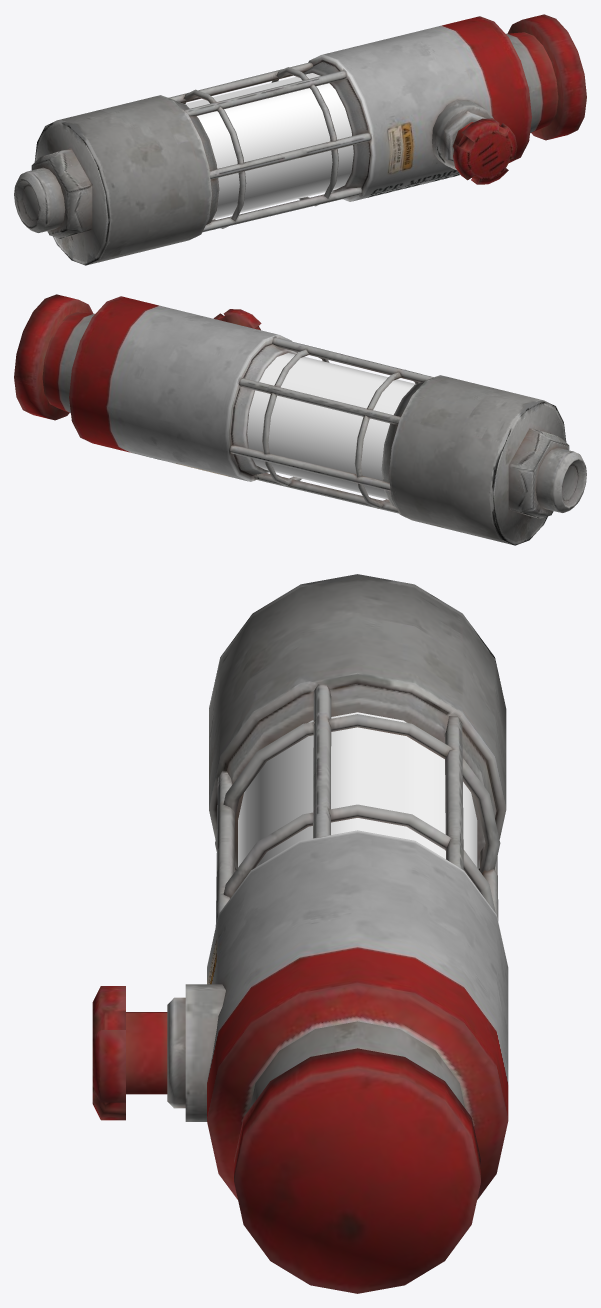
The model's file is injector.glb.
3 views of the same model, one above another, from view 1: azimuth 30°, elevation 25°; view 2: azimuth 150°, elevation 25°; view 3: azimuth 270°, elevation 25° (orthographic). The views are drawn at different scales.
Visible parts, largest first — view 1: Injector Final(Clone); view 2: Injector Final(Clone); view 3: Injector Final(Clone).
Boxes of the visible parts, x1,y1,x2,y2 form: Injector Final(Clone): (14, 14, 586, 265); Injector Final(Clone): (14, 294, 586, 545); Injector Final(Clone): (92, 574, 508, 1293).
Size of the model in its own units: 0.6371 by 0.157 by 0.2166.
2 materials, 1 textured.
